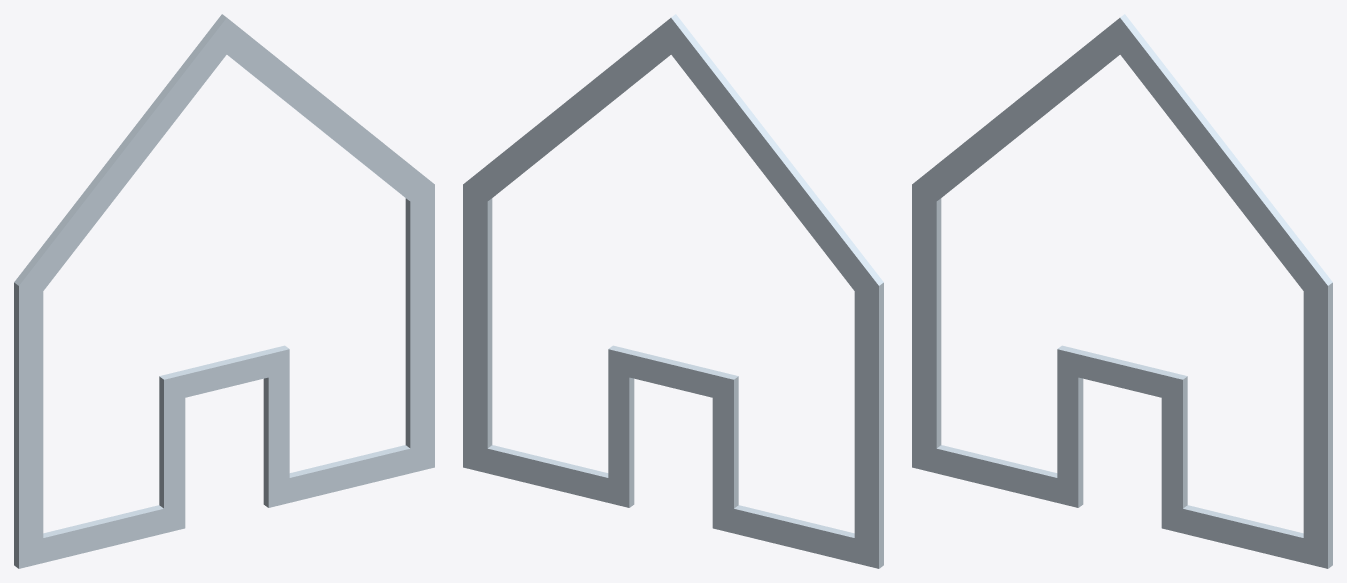
Rendered from Home_3D_Icon_04.fbx.
3 renders of one model, left to right at view 1: azimuth 30°, elevation 25°; view 2: azimuth 150°, elevation 25°; view 3: azimuth 330°, elevation 25°, orthographic.
Parts seen in each view (by area): view 1: Home_3D_Icon_04; view 2: Home_3D_Icon_04; view 3: Home_3D_Icon_04.
Part boxes in pixels (bbox=[...]): Home_3D_Icon_04: bbox=[14, 14, 434, 568]; Home_3D_Icon_04: bbox=[463, 14, 883, 568]; Home_3D_Icon_04: bbox=[912, 14, 1332, 568].
Bounding box in the file's own units: 97.42 × 112 × 2.
